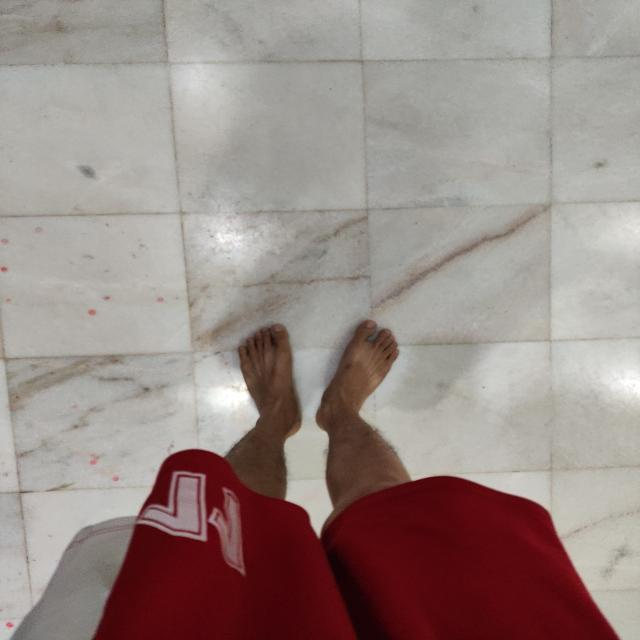No_Shoes: (316, 316, 420, 447), (220, 326, 296, 450)
